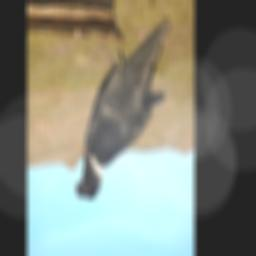Crow: (74, 16, 170, 206)
